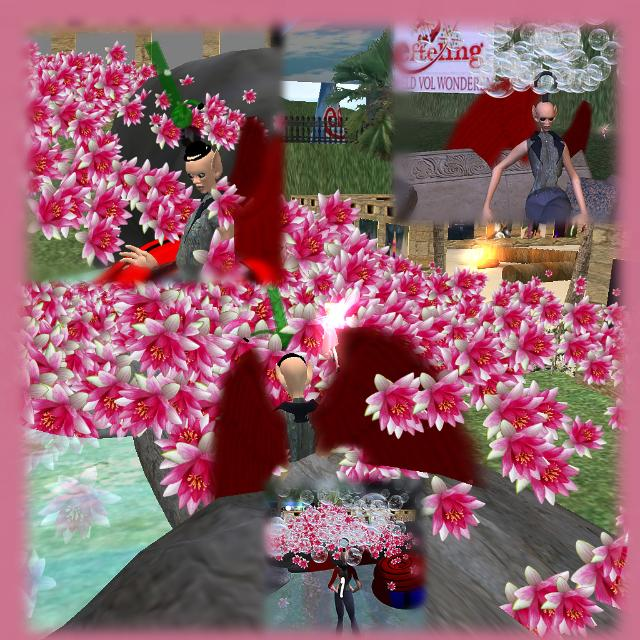Flower: (25, 188, 622, 514), (28, 40, 202, 266), (498, 532, 628, 636), (41, 464, 121, 546), (420, 476, 484, 540), (331, 445, 432, 481), (187, 92, 247, 152), (23, 429, 98, 475), (22, 550, 56, 618), (242, 86, 258, 106), (572, 275, 588, 293), (178, 74, 194, 90), (544, 268, 554, 278)
